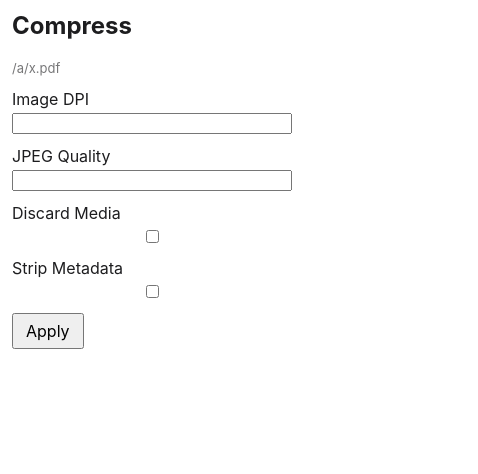
Test: ToolPanel › shows a finished job's notes apart from errors
The image size is (478, 474).
Click the button "Apply": {"x": 48, "y": 331} x1=12 y1=313 x2=84 y2=349
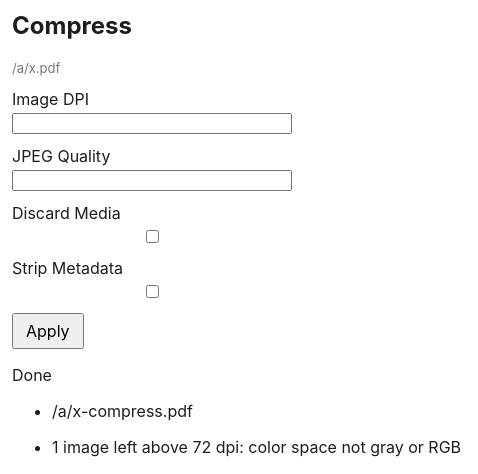
Result: the list named "Notes" reads "1 image left above 72 dpi: color space not gray or RGB" at x1=52 y1=437 x2=461 y2=457
Result: the list item "/a/x-compress.pdf" is shown at x1=52 y1=401 x2=193 y2=421
